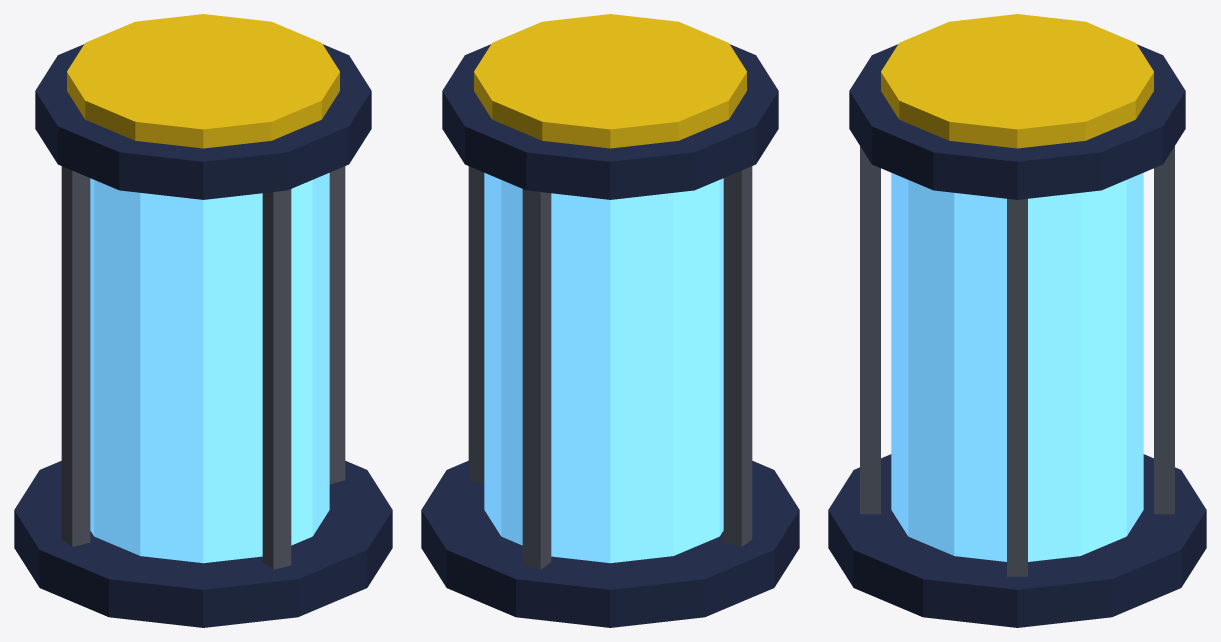
File: reactor_core.fbx
3 views of the same model, side by side, from view 1: azimuth 30°, elevation 25°; view 2: azimuth 150°, elevation 25°; view 3: azimuth 270°, elevation 25° (orthographic).
Parts seen in each view (by area): view 1: reactor_core; view 2: reactor_core; view 3: reactor_core.
Part boxes in pixels (left/top/right/bottom): reactor_core: left=14, top=14, right=392, bottom=627; reactor_core: left=421, top=14, right=799, bottom=627; reactor_core: left=828, top=14, right=1206, bottom=627.
Size of the model in its own units: 1.8 by 2.5 by 1.8.
